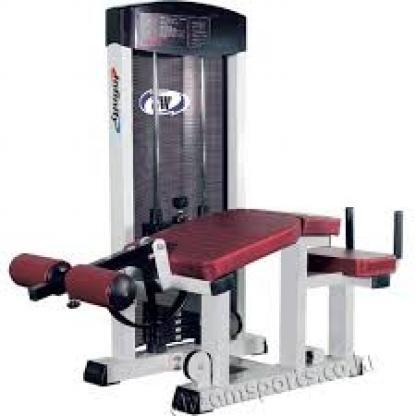reg curl machine: (7, 2, 407, 416)
